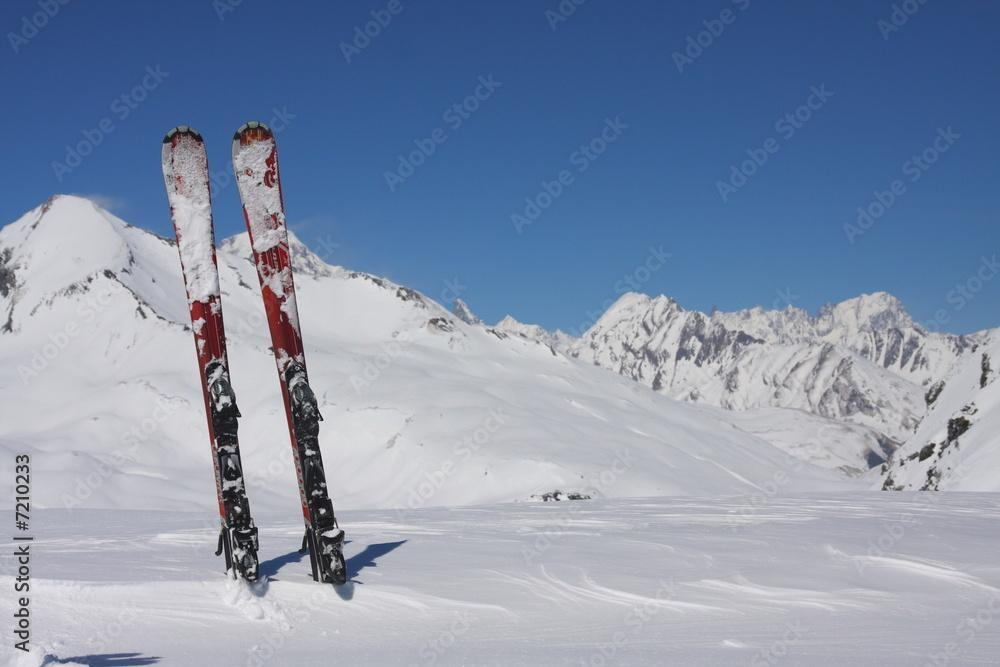Skis: (127, 101, 381, 605)
